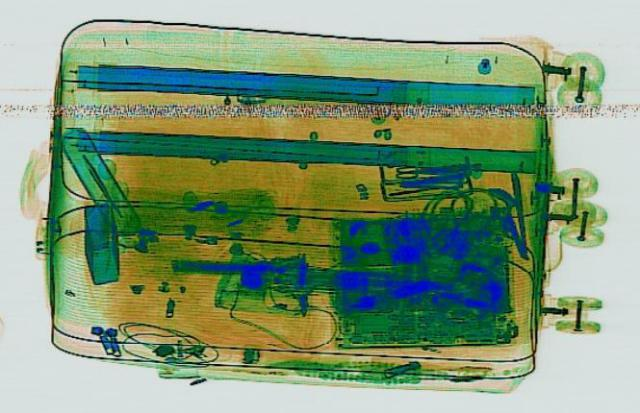Scissors: (394, 161, 446, 177)
